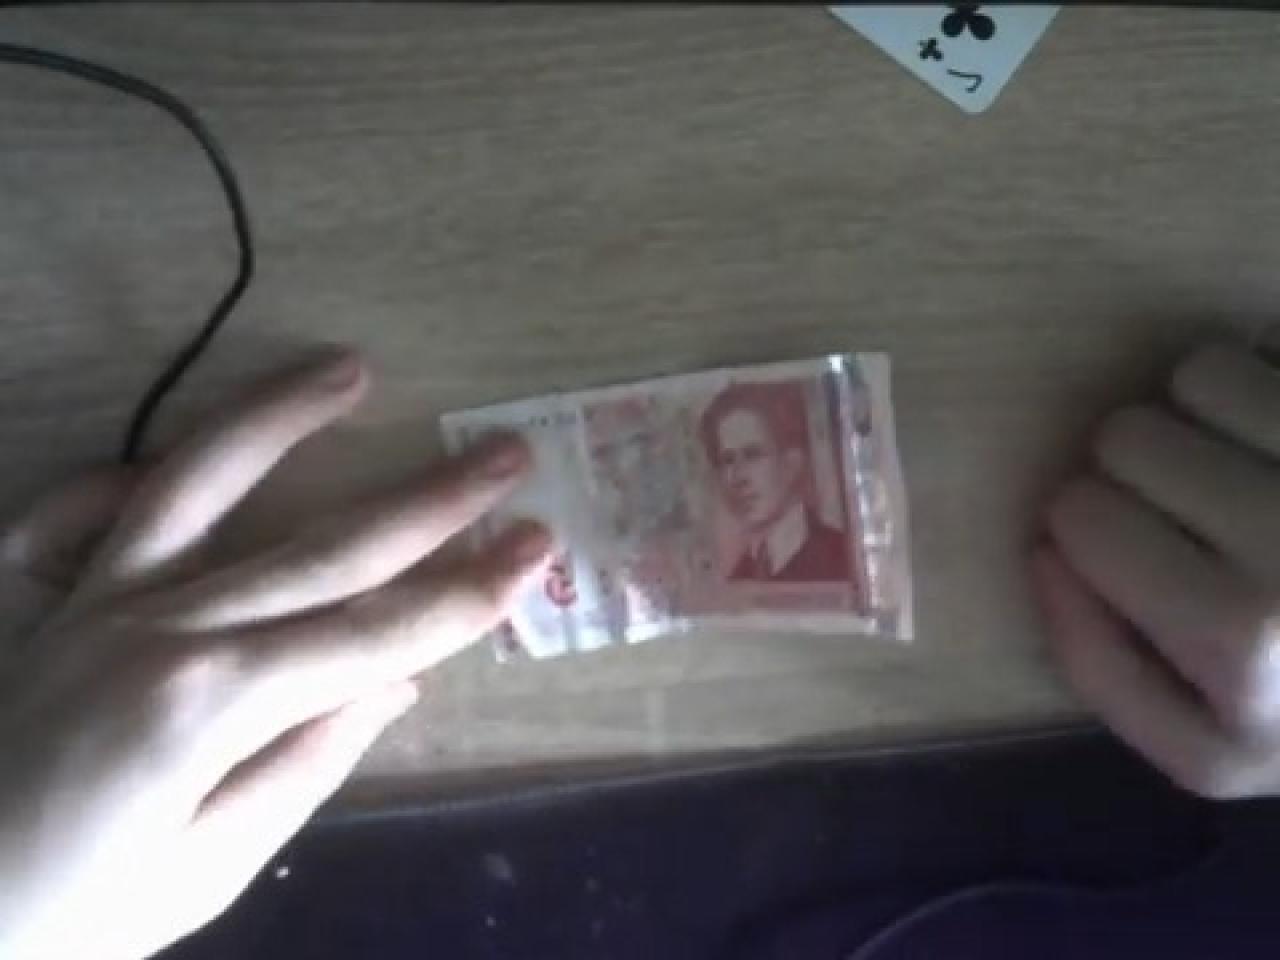5leva: (440, 347, 915, 658)
